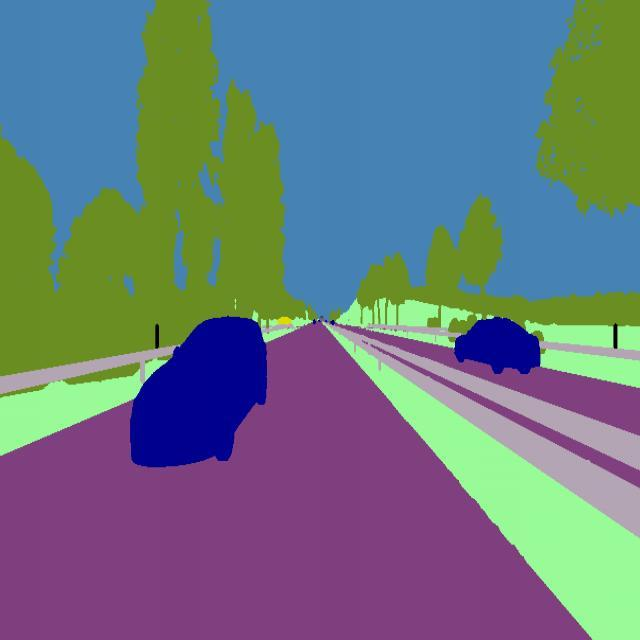safe: (452, 313, 544, 378)
unsafe: (126, 304, 270, 472)
